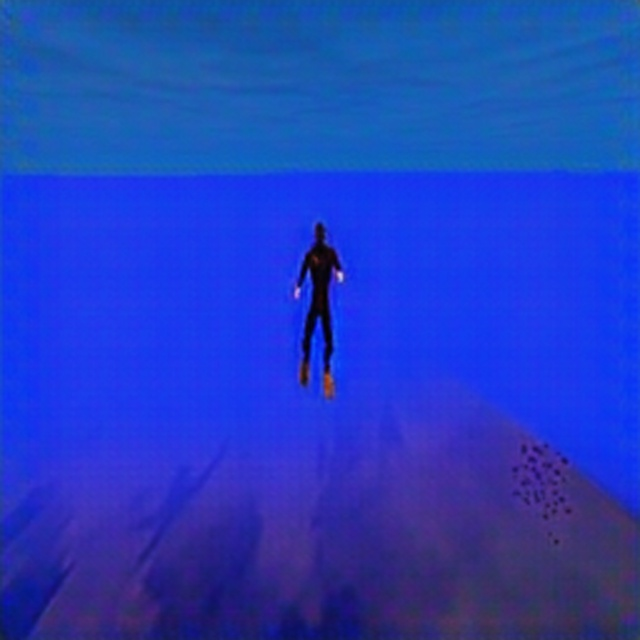diver: (291, 219, 346, 399)
